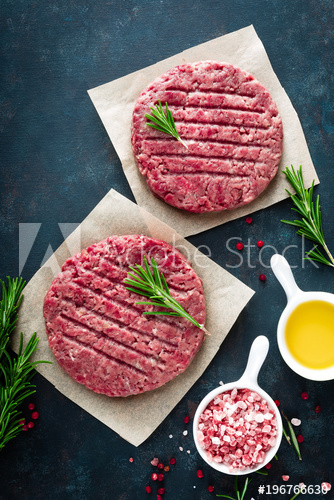ground_beef: (45, 230, 213, 401), (130, 56, 282, 214)
